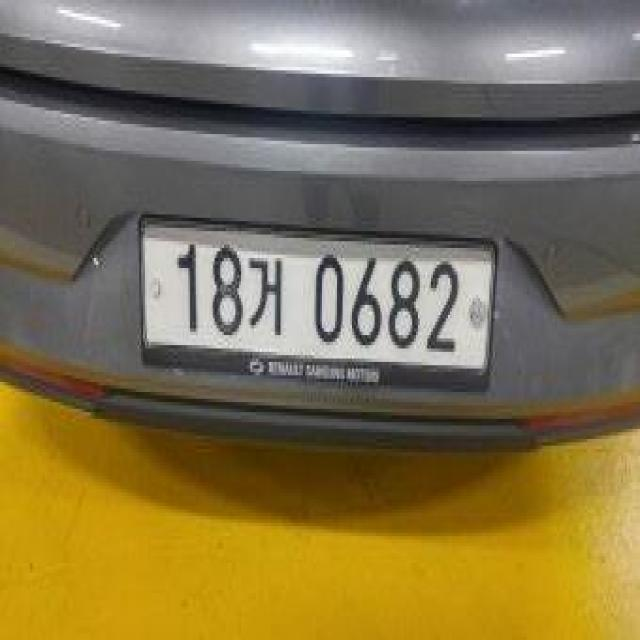car: (135, 195, 529, 430)
